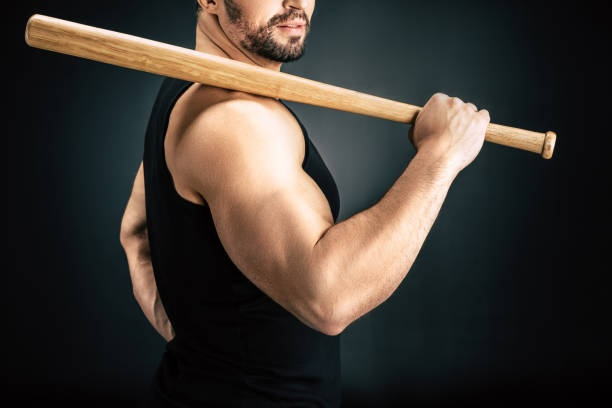bita: (22, 17, 557, 159)
